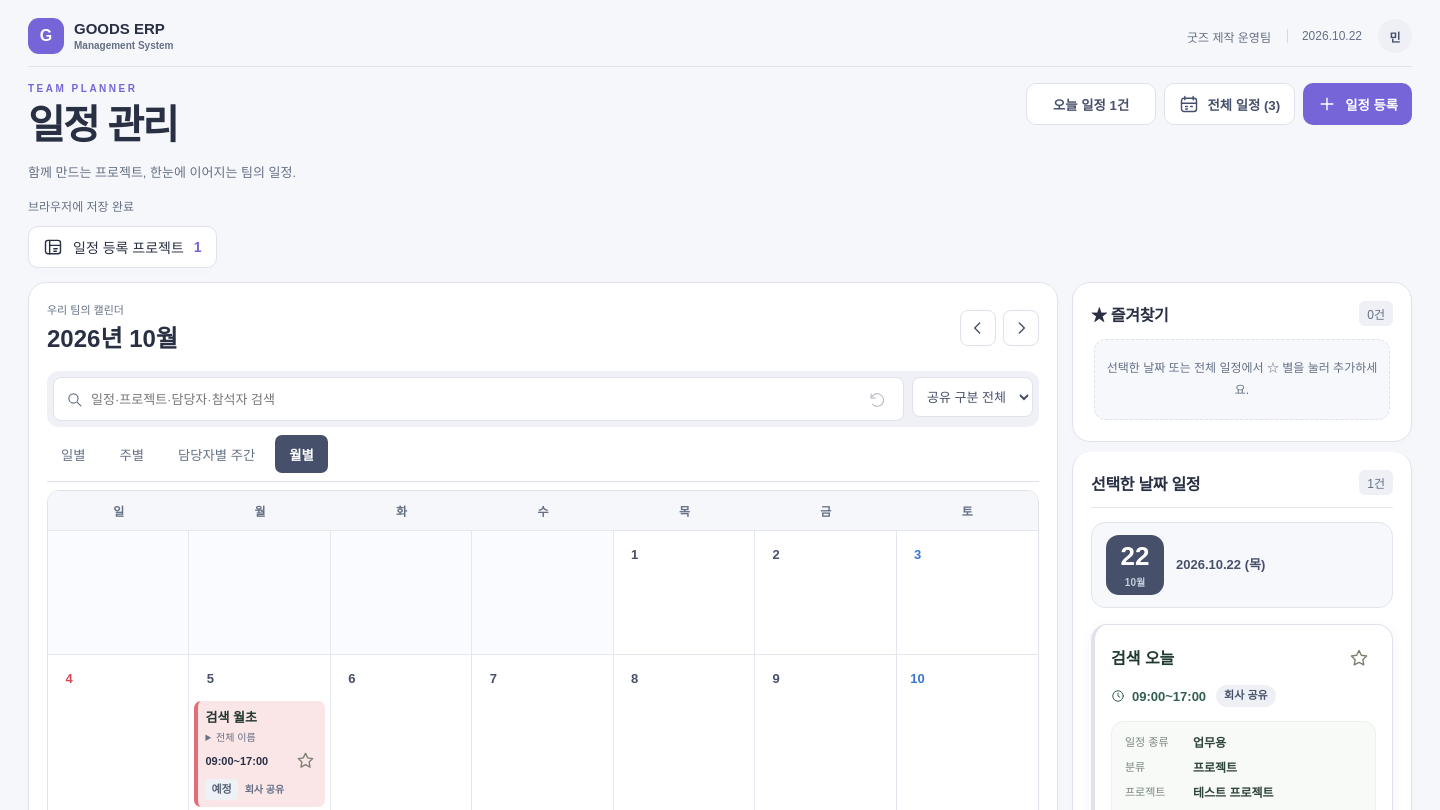
Test case: 달력 검색은 보기 기간과 공개 필터를 따르고 결과 건수를 표시한다
Step 1. Type "검색" into the field named "일정 검색" → (473, 399), box [91,378,855,420]
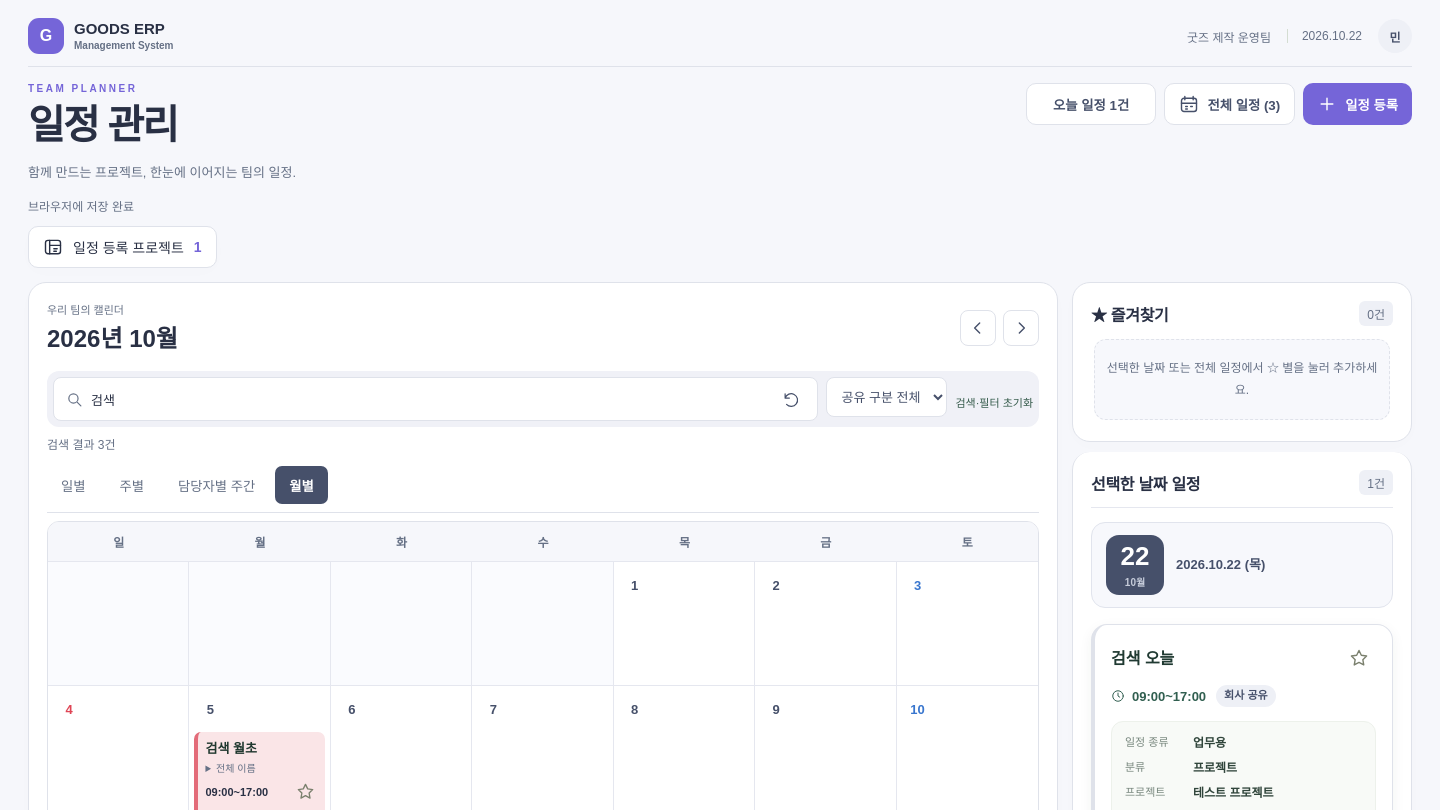
Expected: the text "검색 결과 3건" is shown, [47,435,116,452]
Step 2. Click the tab "주별" → (132, 485), box [106,466,158,504]
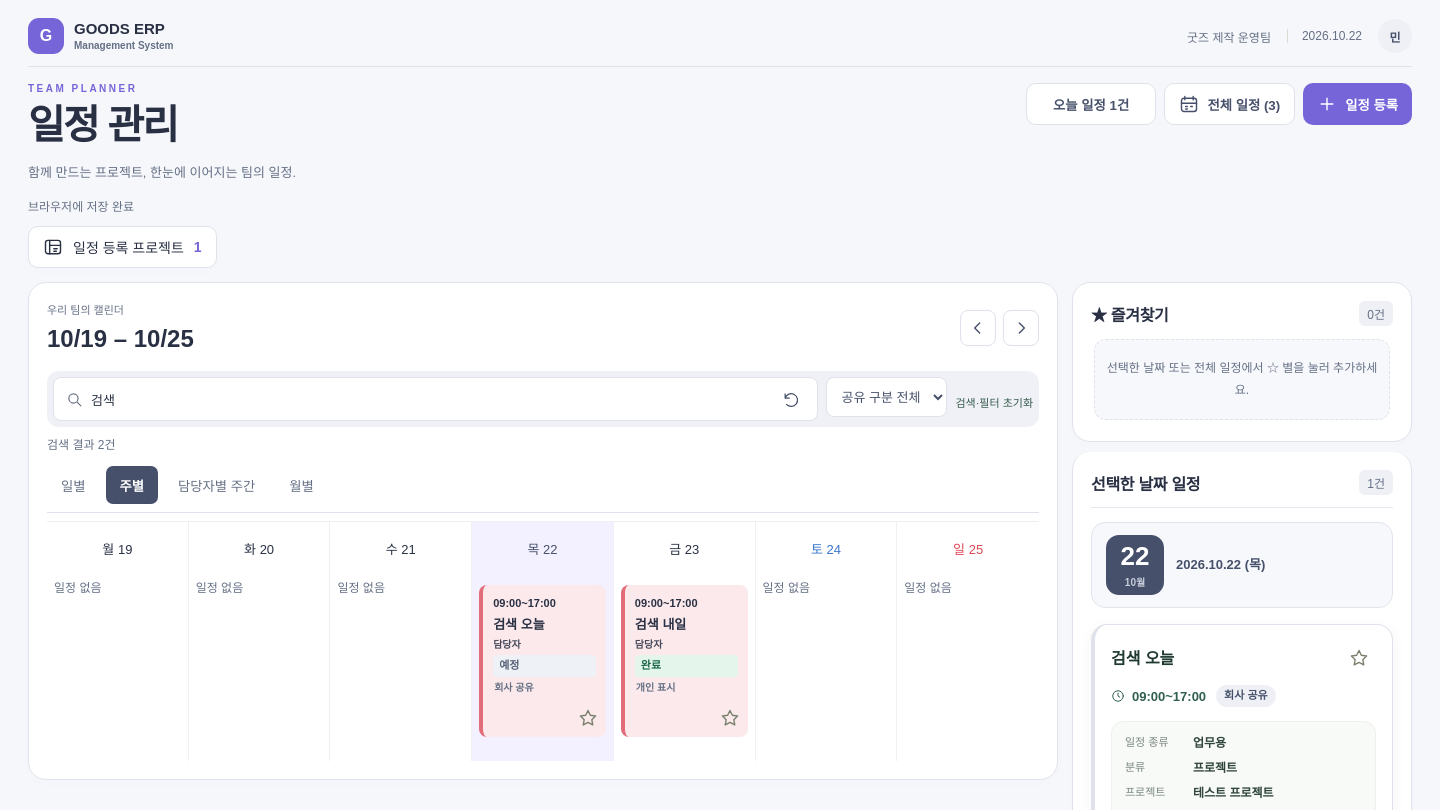
Expected: the text "검색 결과 2건" is shown, [47,435,116,452]
Step 3. Click the tab "일별" → (73, 485), box [47,466,100,504]
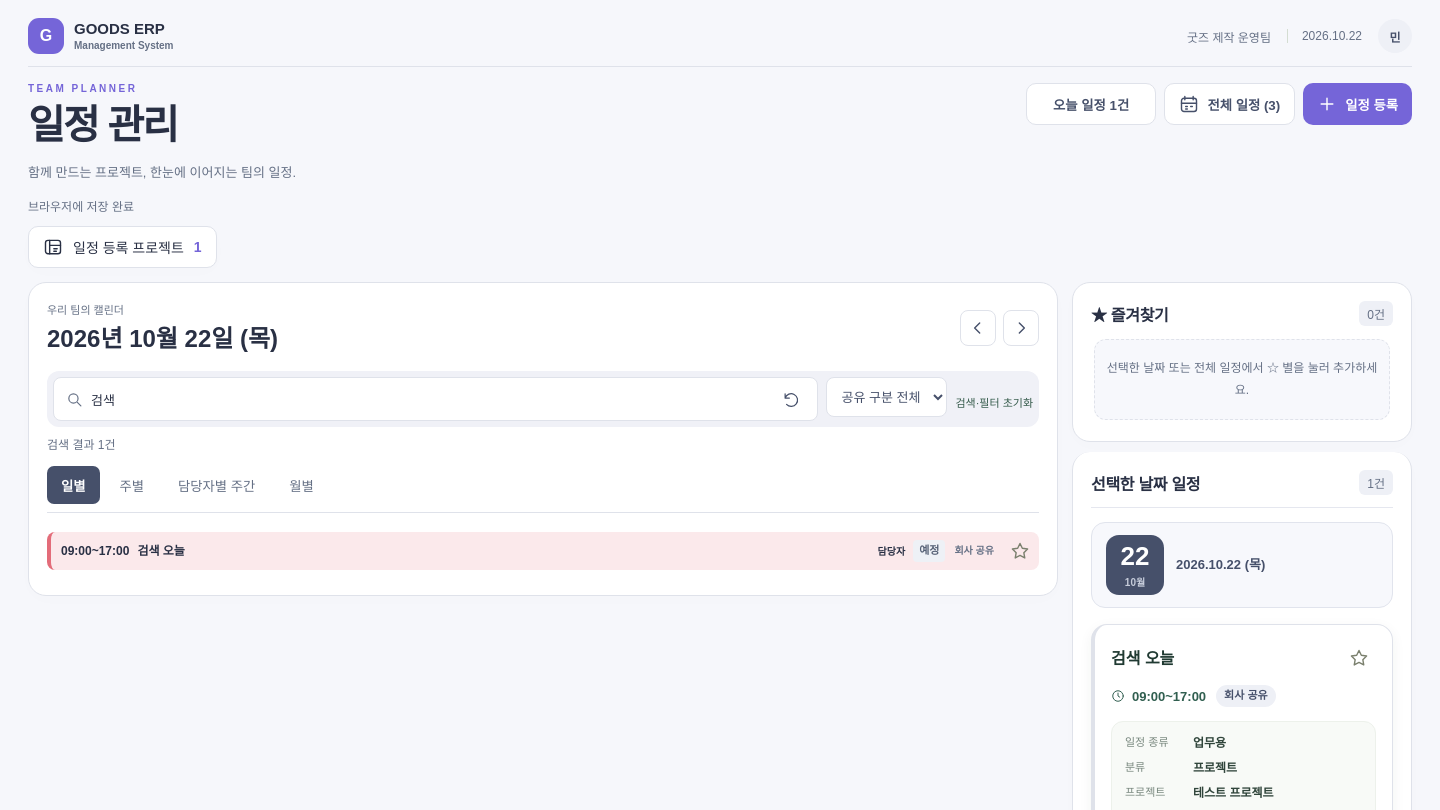
Expected: the text "검색 결과 1건" is shown, [47,435,116,452]
Step 4. Select "개인 표시" in the dropdown named "공유 구분 필터" → (887, 397), box [826,377,947,417]
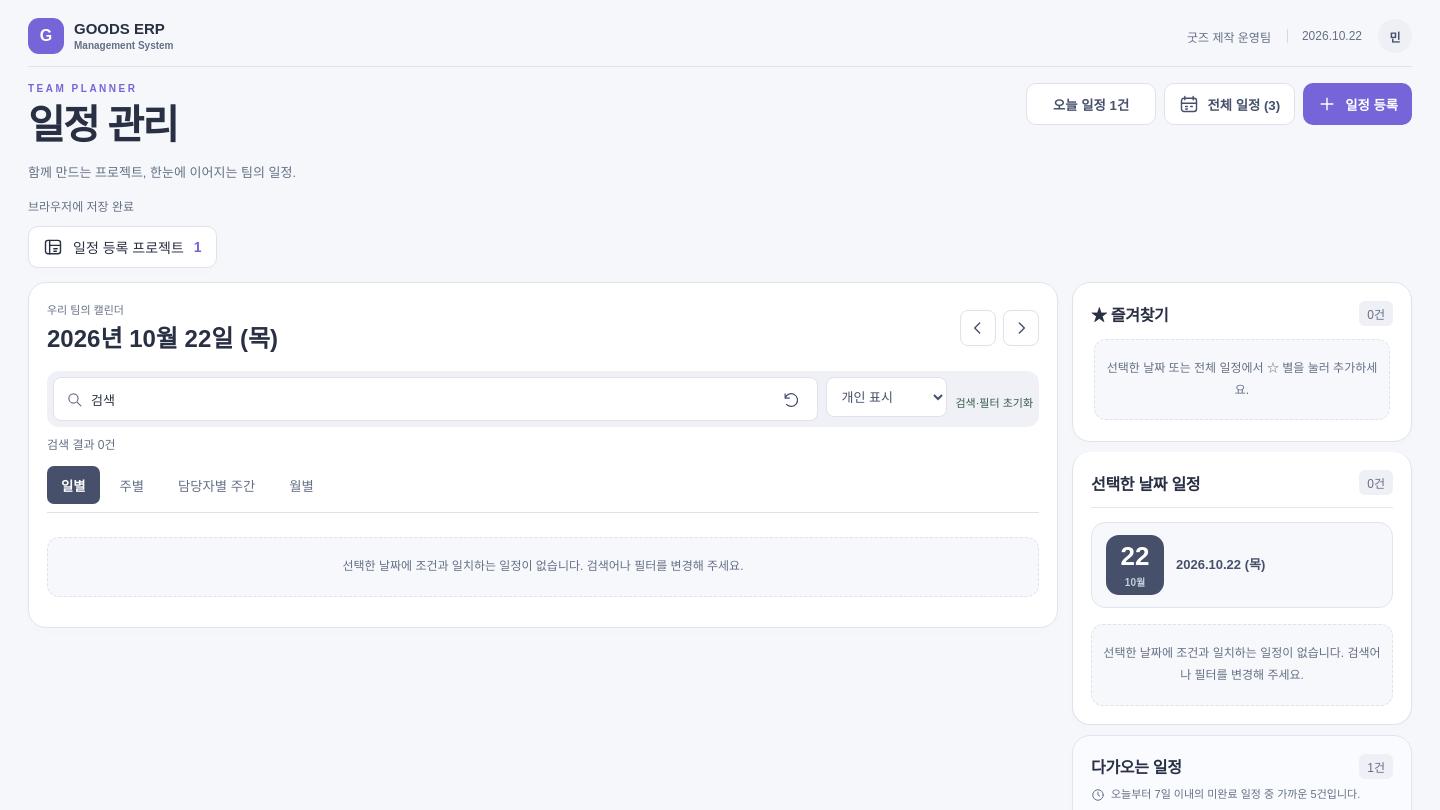
Expected: the text "검색 결과 0건" is shown, [47,435,116,452]
Step 5. Click the tab "주별" → (132, 485), box [106,466,158,504]
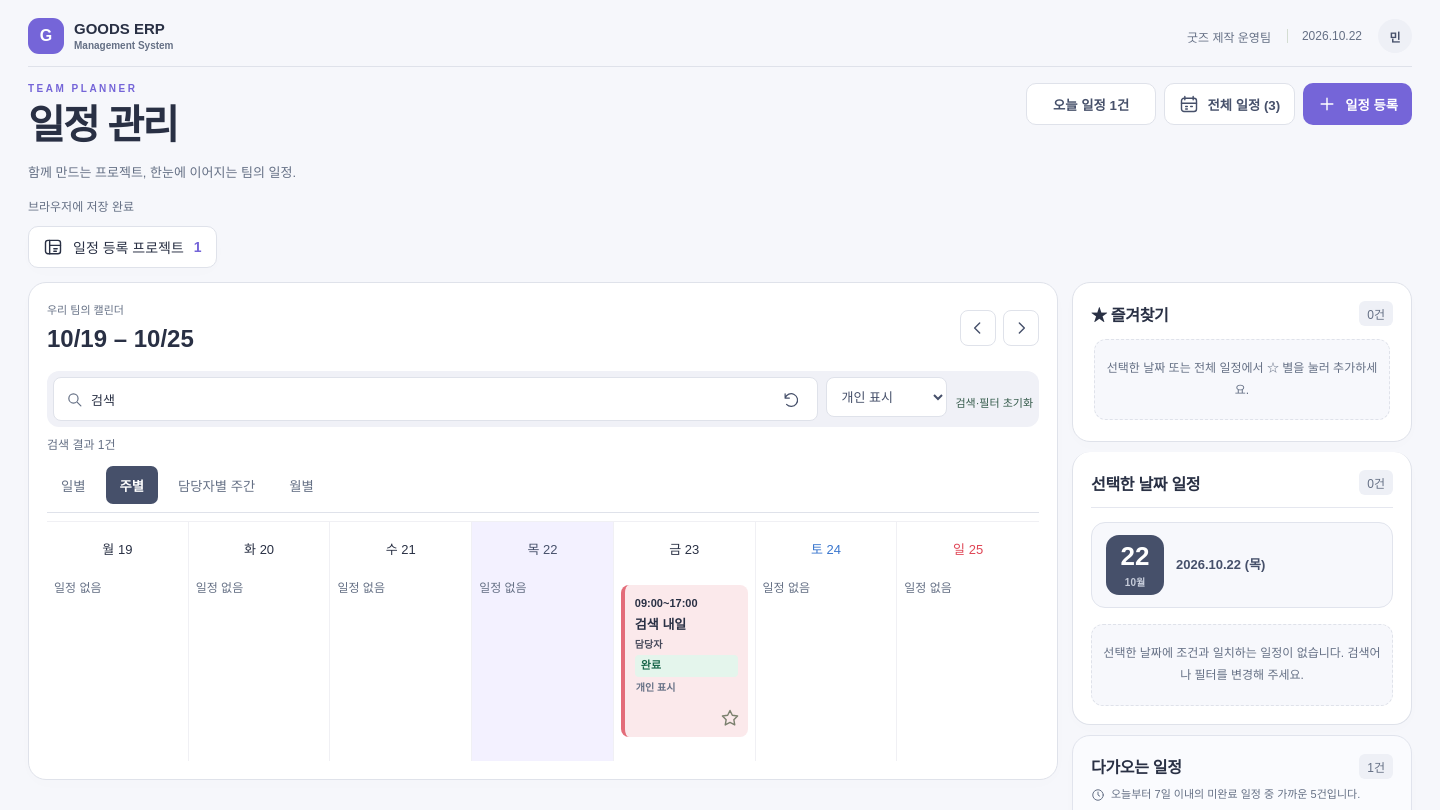
Expected: the text "검색 결과 1건" is shown, [47,435,116,452]
